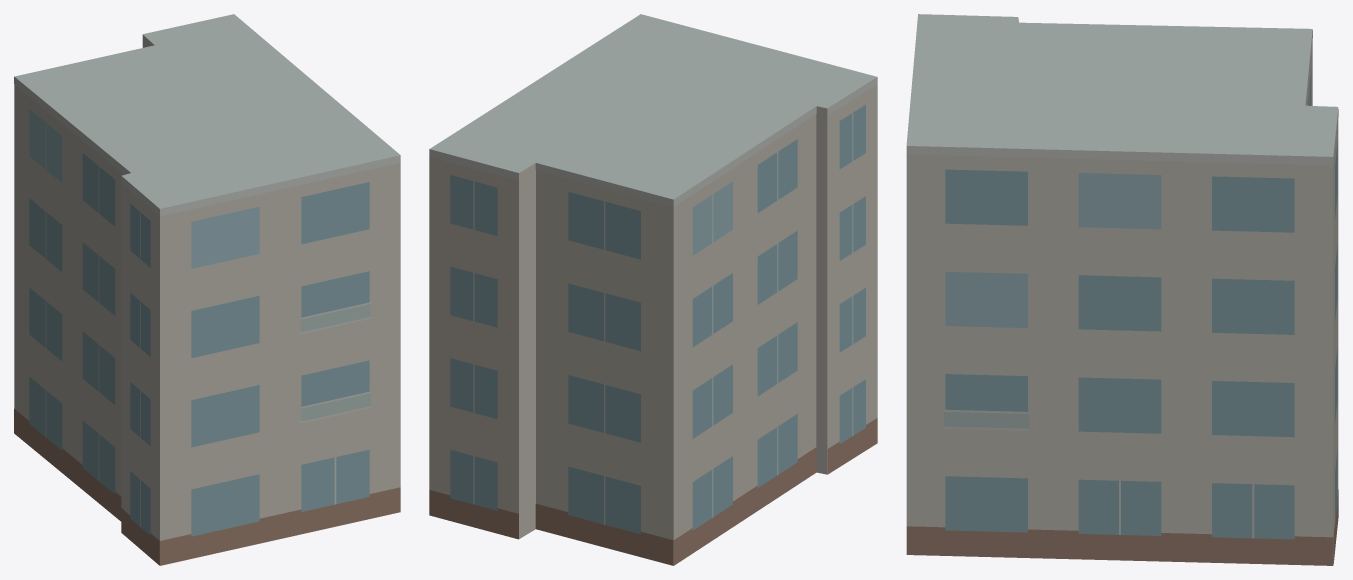
File: survey-upis-32517676.glb
3 views of the same model, side by side, from view 1: azimuth 30°, elevation 25°; view 2: azimuth 150°, elevation 25°; view 3: azimuth 270°, elevation 25° (orthographic). The views are drawn at different scales.
Parts seen in each view (by area): view 1: survey-upis-32517676.tmp; view 2: survey-upis-32517676.tmp; view 3: survey-upis-32517676.tmp.
Boxes of the visible parts, x1,y1,x2,y2 form: survey-upis-32517676.tmp: [14, 14, 400, 565]; survey-upis-32517676.tmp: [429, 14, 877, 565]; survey-upis-32517676.tmp: [906, 14, 1338, 565].
Size of the model in its own units: 8.77 by 11.7 by 11.21.
